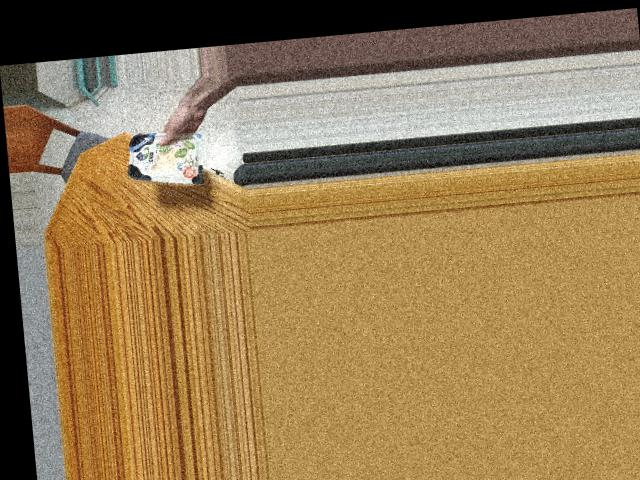cheese: (124, 120, 206, 190)
